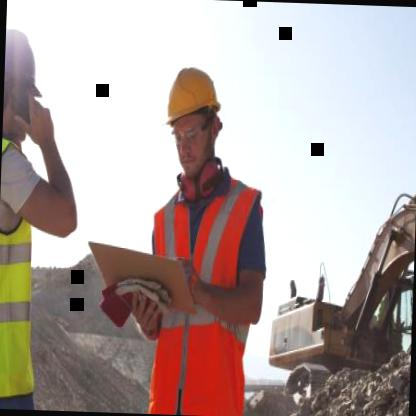helmet: (152, 47, 230, 188), (2, 22, 46, 141)
